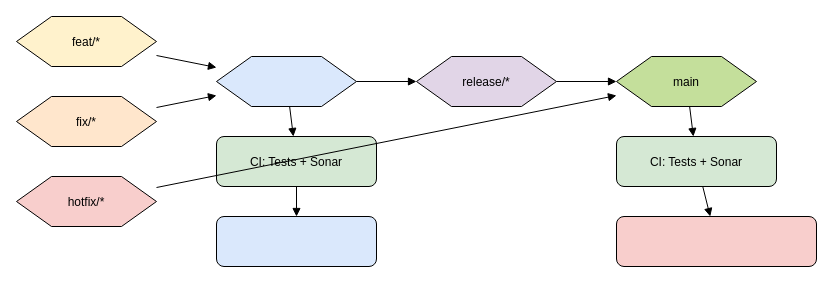
Some shapes in this 833 by 283 pixel diagram are drawn without their labels. The box of each missing label's shape, as (x1, y1, x2, y2) in pixels:
CD: Deploy to Dev: (216, 216, 376, 266)
CD: Tag + Deploy to Prod: (616, 216, 816, 266)
dev: (216, 56, 356, 106)
